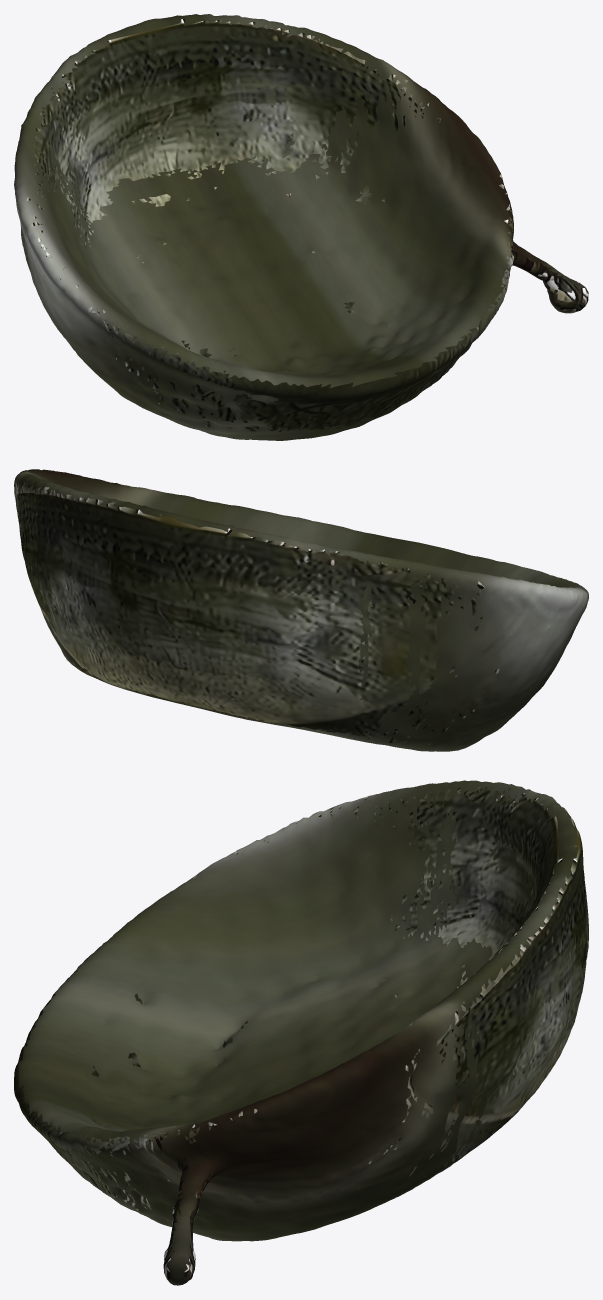
Rendered from kfl-2255.glb.
3 renders of one model, top to bottom at view 1: azimuth 30°, elevation 25°; view 2: azimuth 150°, elevation 25°; view 3: azimuth 270°, elevation 25°, orthographic. The views are drawn at different scales.
Parts seen in each view (by area): view 1: kfl-2255; view 2: kfl-2255; view 3: kfl-2255.
Boxes of the visible parts, x1,y1,x2,y2 form: kfl-2255: (14,14,588,440); kfl-2255: (14,469,588,751); kfl-2255: (14,780,588,1285).
Size of the model in its own units: 0.9899 by 0.5599 by 0.8103.
Materials: 4 (4 with a texture image).
